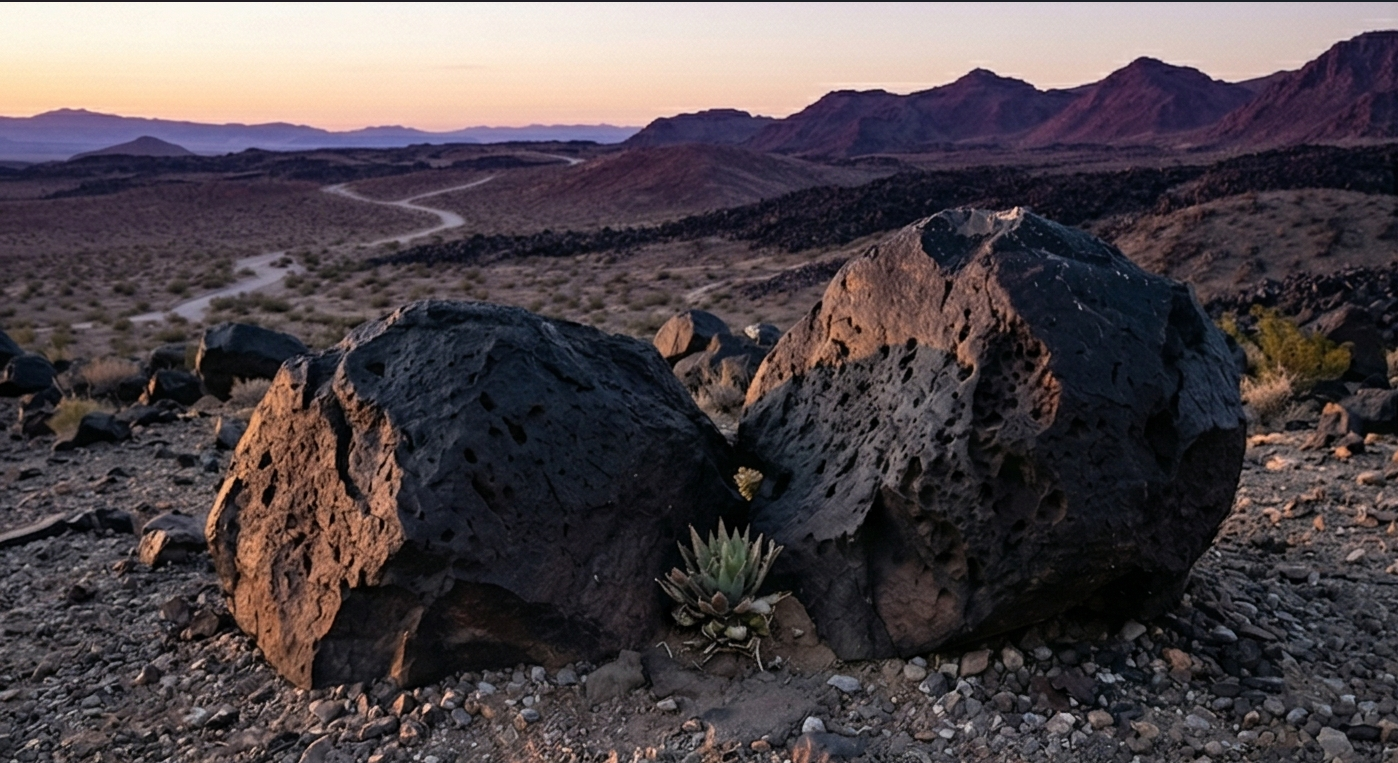rocks: (209, 210, 1245, 687)
